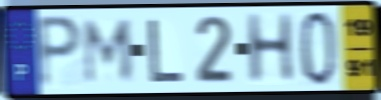0: (298, 9, 338, 88)
2: (193, 14, 235, 86)
H: (243, 11, 297, 87)
L: (147, 17, 187, 85)
M: (82, 18, 135, 87)
P: (35, 13, 85, 92)
